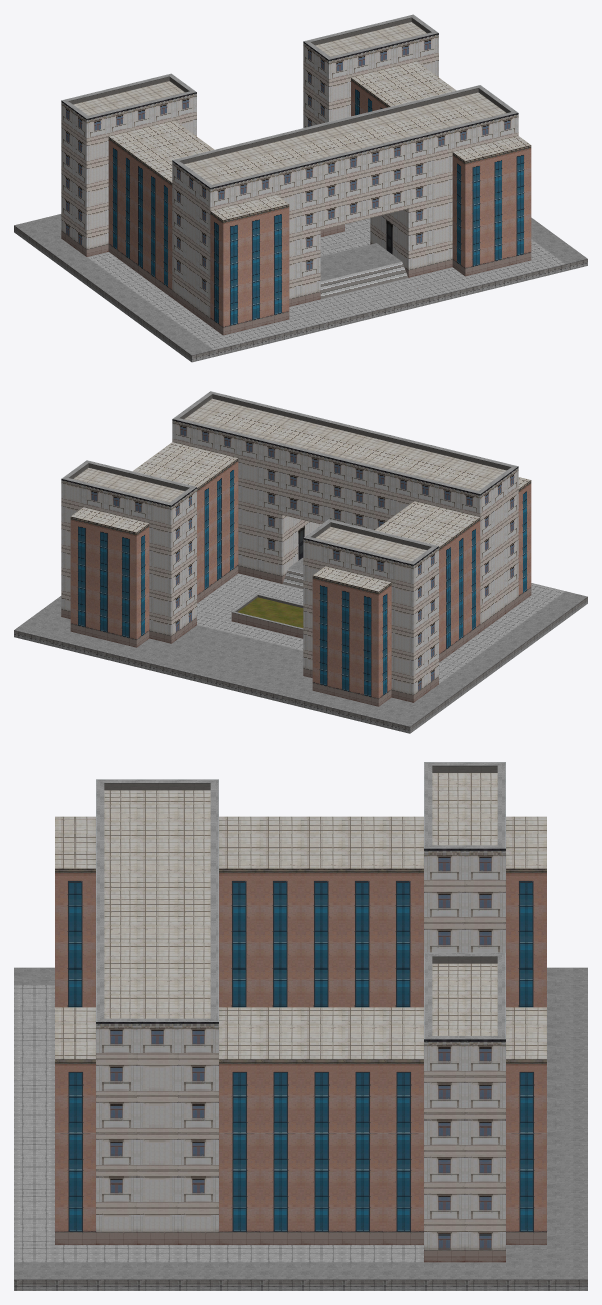
File: building_03_smooth.glb
The picture shows the model from 3 angles, top to bottom: view 1: azimuth 30°, elevation 25°; view 2: azimuth 150°, elevation 25°; view 3: azimuth 270°, elevation 25°; orthographic projection. The views are drawn at different scales.
Parts seen in each view (by area): view 1: building_03_smooth2; view 2: building_03_smooth2; view 3: building_03_smooth2.
Part boxes in pixels (x1=…): building_03_smooth2: x1=14, y1=14, x2=587, y2=362; building_03_smooth2: x1=14, y1=391, x2=587, y2=733; building_03_smooth2: x1=14, y1=762, x2=587, y2=1290.
Size of the model in its own units: 90 by 31.52 by 70.
1 material, 1 textured.
